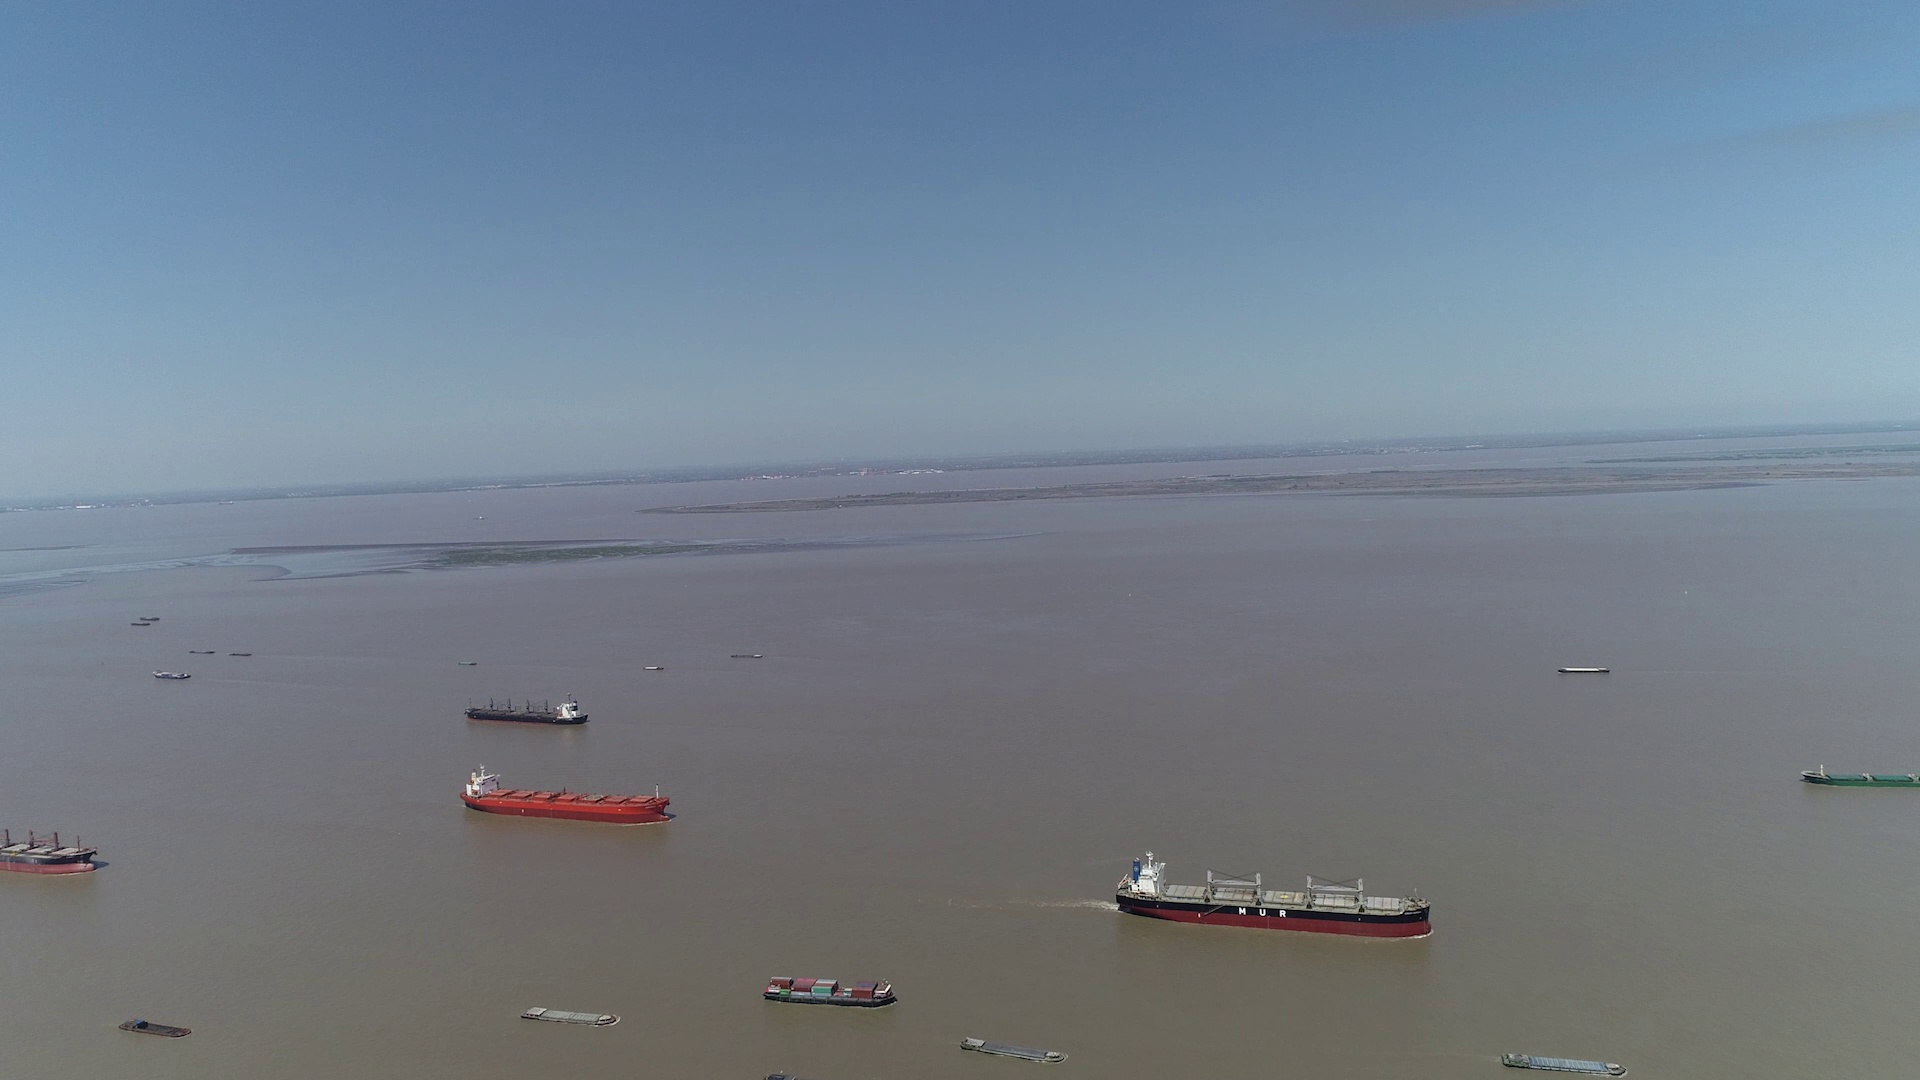ship: (1116, 851, 1431, 942), (459, 761, 669, 822), (1, 814, 100, 876), (764, 975, 897, 1007), (465, 694, 589, 723), (1501, 1050, 1629, 1075), (1801, 764, 1917, 789), (960, 1035, 1064, 1062), (522, 1006, 618, 1029), (121, 1019, 190, 1039), (152, 669, 194, 679), (1557, 666, 1611, 674)
